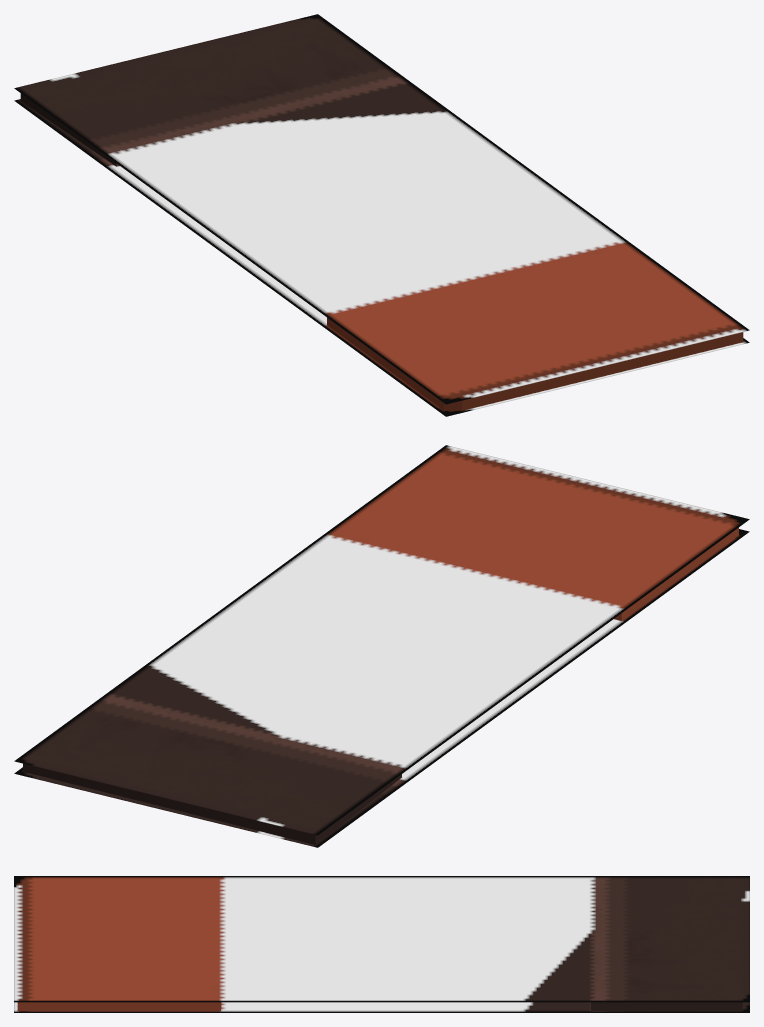
Rendered from pz_native_location_restaurant_seahorse_01_33_frame.obj.
3 views of the same model, one above another, from view 1: azimuth 30°, elevation 25°; view 2: azimuth 150°, elevation 25°; view 3: azimuth 270°, elevation 25° (orthographic). The views are drawn at different scales.
Visible parts, largest first — view 1: pz_native_location_restaurant_seahorse_01_33_frame; view 2: pz_native_location_restaurant_seahorse_01_33_frame; view 3: pz_native_location_restaurant_seahorse_01_33_frame.
Part boxes in pixels (x1,y1,x2,y2): pz_native_location_restaurant_seahorse_01_33_frame: [14, 14, 749, 416]; pz_native_location_restaurant_seahorse_01_33_frame: [14, 445, 749, 847]; pz_native_location_restaurant_seahorse_01_33_frame: [14, 876, 749, 1012].
Bounding box in the file's own units: 1.03 × 0.04 × 2.54.
Materials: 1 (1 with a texture image).
